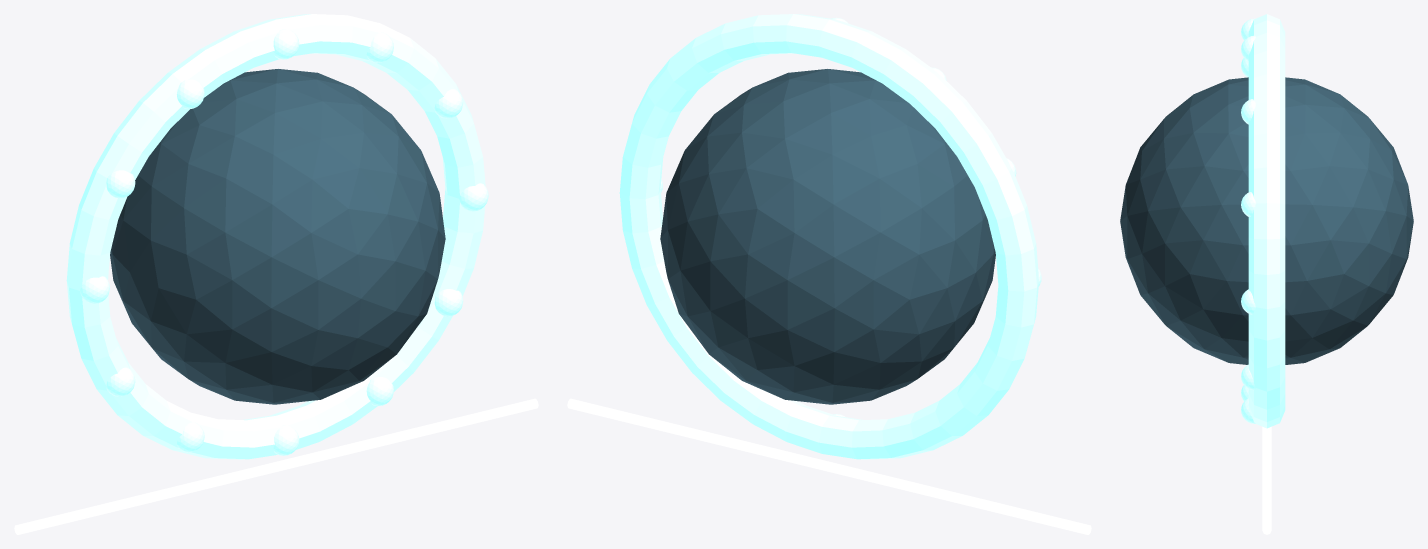
File: plan_11.glb
3 renders of one model, left to right at view 1: azimuth 30°, elevation 25°; view 2: azimuth 150°, elevation 25°; view 3: azimuth 270°, elevation 25°, orthographic. The views are drawn at different scales.
Visible parts, largest first — view 1: clock_face, clock_ring, timeline_0, timeline_3, timeline_1, timeline_2, clock_marker5, clock_marker4, clock_marker11, clock_marker3, clock_marker6, clock_marker10 (+6 smaller); view 2: clock_face, clock_ring, timeline_0, timeline_3, timeline_1, timeline_2; view 3: clock_face, clock_ring, timeline_3, timeline_2.
Part boxes in pixels (x1,y1,x2,y2): clock_face: [110, 69, 445, 404]; clock_ring: [66, 14, 485, 459]; timeline_0: [14, 492, 156, 534]; timeline_3: [397, 398, 538, 441]; timeline_1: [153, 462, 278, 501]; timeline_2: [276, 432, 401, 471]; clock_marker5: [106, 170, 135, 198]; clock_marker4: [177, 79, 204, 109]; clock_marker11: [434, 289, 463, 316]; clock_marker3: [273, 29, 299, 59]; clock_marker6: [80, 276, 109, 303]; clock_marker10: [366, 377, 393, 405]; clock_face: [660, 69, 995, 404]; clock_ring: [619, 14, 1038, 459]; timeline_0: [949, 492, 1091, 534]; timeline_3: [567, 398, 708, 441]; timeline_1: [827, 462, 952, 501]; timeline_2: [704, 432, 829, 471]; clock_face: [1120, 77, 1413, 364]; clock_ring: [1248, 14, 1285, 428]; timeline_3: [1262, 468, 1271, 534]; timeline_2: [1262, 426, 1271, 471].
Bounding box in the file's own units: 1.82 × 1.51 × 1.03.
